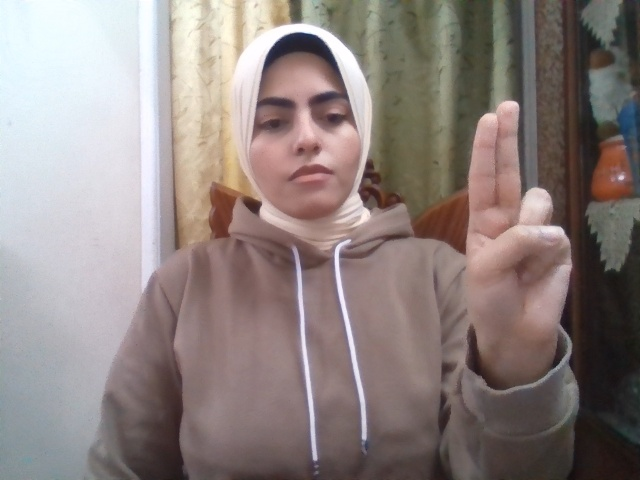U: (467, 101, 572, 344)
